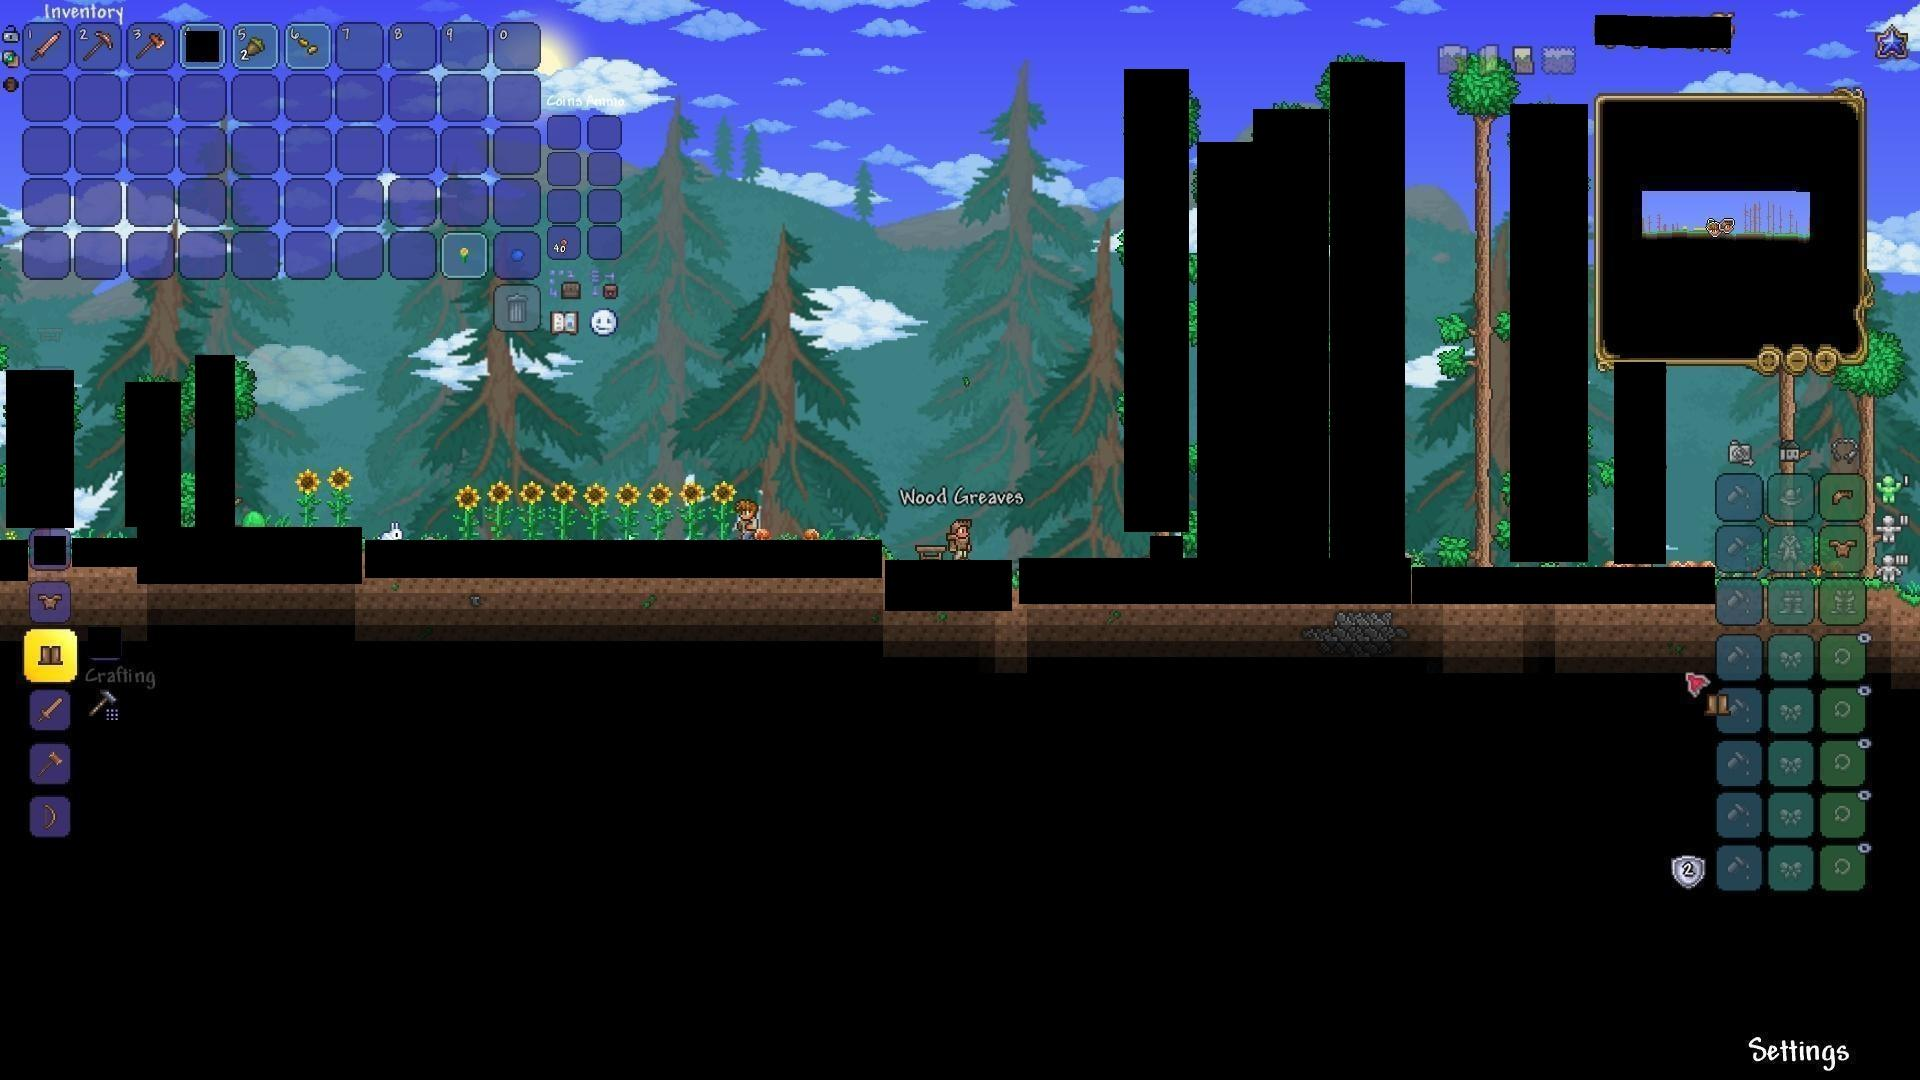breastplate: (36, 592, 65, 613), (1830, 538, 1859, 558)
helmet: (1828, 483, 1859, 510)
legs: (37, 641, 62, 669)
slime: (236, 505, 266, 531)
tree: (1433, 49, 1514, 564), (1861, 345, 1898, 556)
workbench: (911, 543, 945, 564)
